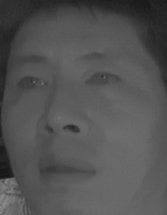eye: (85, 69, 123, 92), (15, 73, 50, 95)
mouth: (33, 147, 101, 190)
